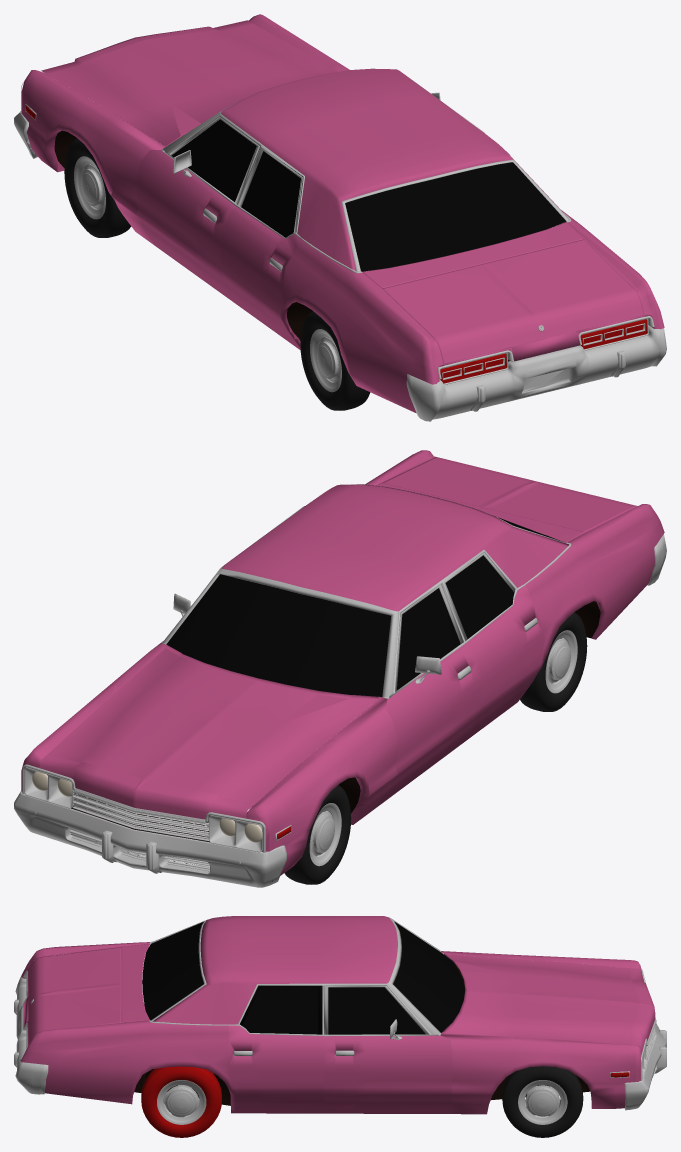
Rendered from dodge-monaco.glb.
3 renders of one model, top to bottom at view 1: azimuth 30°, elevation 25°; view 2: azimuth 150°, elevation 25°; view 3: azimuth 270°, elevation 25°, orthographic. The views are drawn at different scales.
Parts seen in each view (by area): view 1: body, wheel_back_R, wheel_front_R; view 2: body, wheel_back_R, wheel_front_R; view 3: body, wheel_back_L, wheel_front_L.
Part boxes in pixels (x1,y1,x2,y2): body: (14,14,666,421); wheel_back_R: (300,311,370,410); wheel_front_R: (64,138,131,237); body: (14,450,666,887); wheel_back_R: (520,612,587,711); wheel_front_R: (284,785,351,884); body: (14,916,666,1114); wheel_back_L: (141,1066,221,1137); wheel_front_L: (502,1066,583,1137).
Size of what is drawn, in the model's own units: 2.04 by 1.45 by 5.62.
